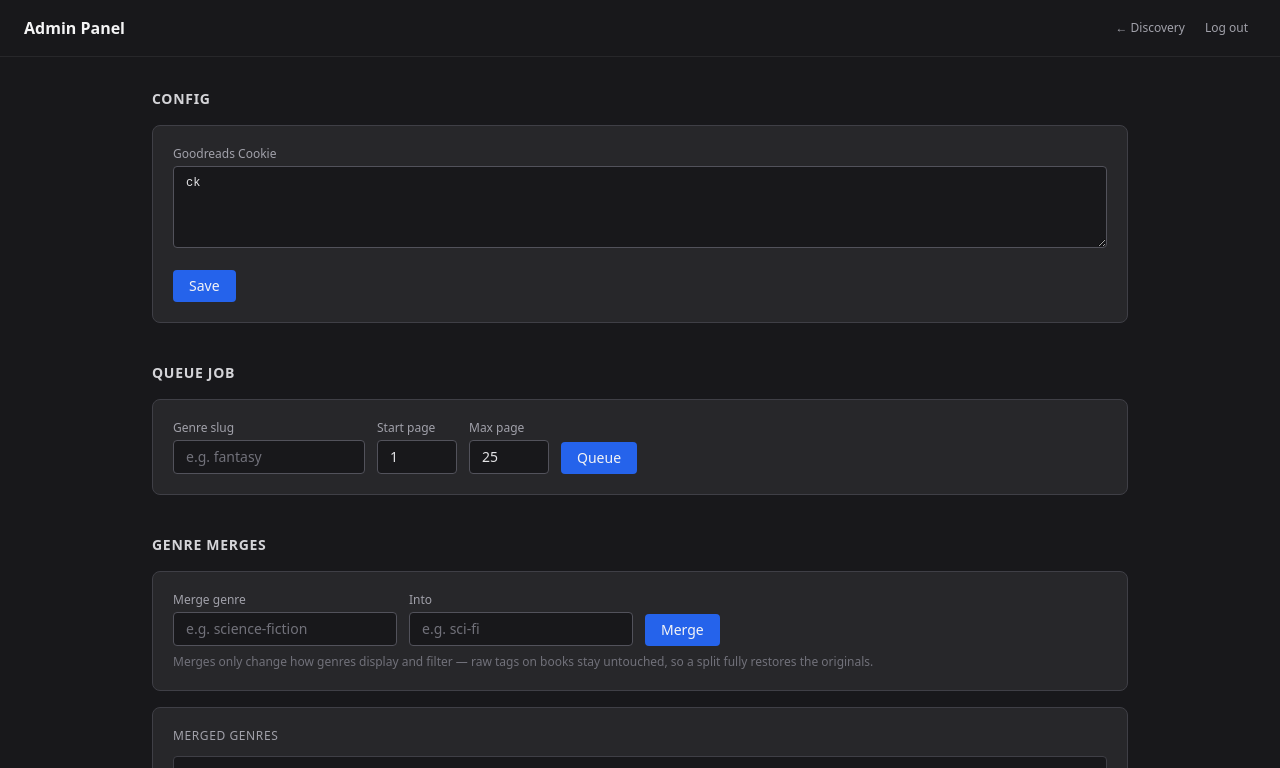
Test: Genre Merges — merge action › POSTs { from, into } and reloads the overview on success
Type "space-opera" into the field with placeholder "e.g. science-fiction" at [285, 629], box [173,612,397,646]
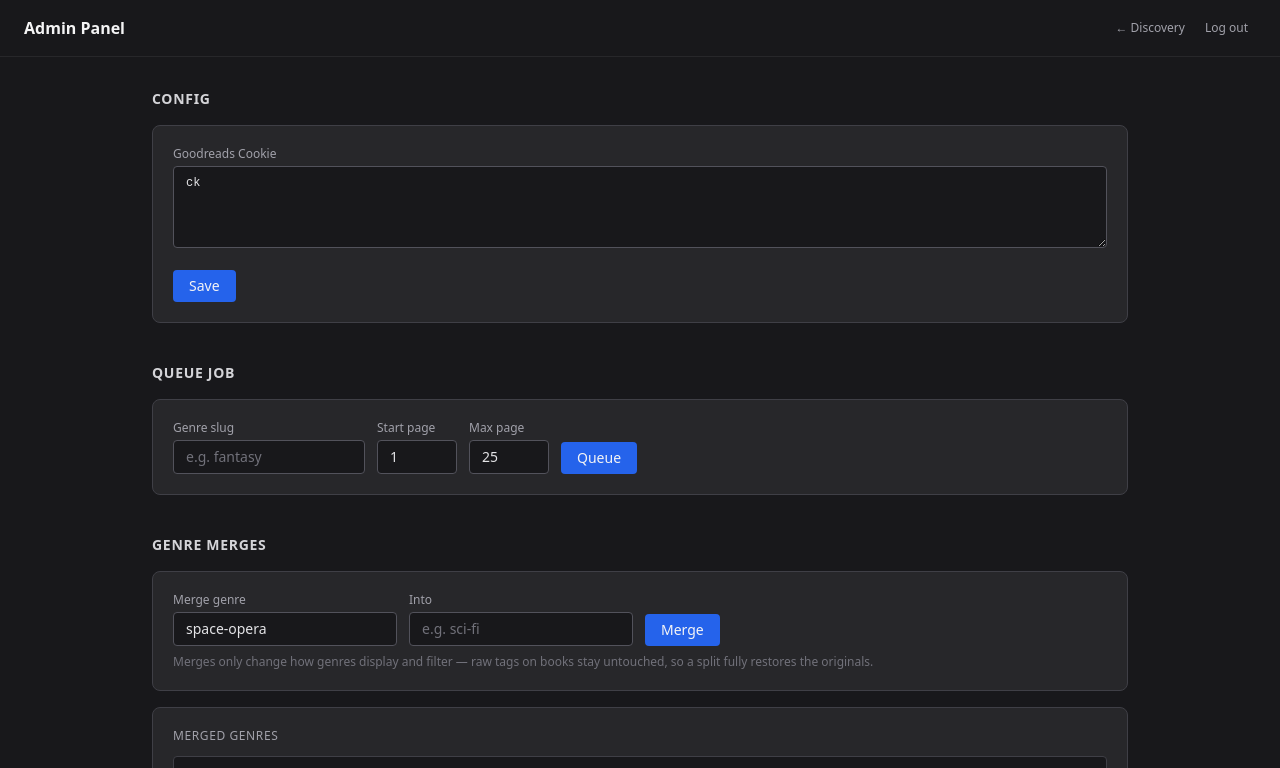
Type "sci-fi" into the field with placeholder "e.g. sci-fi" at [521, 629], box [409,612,633,646]
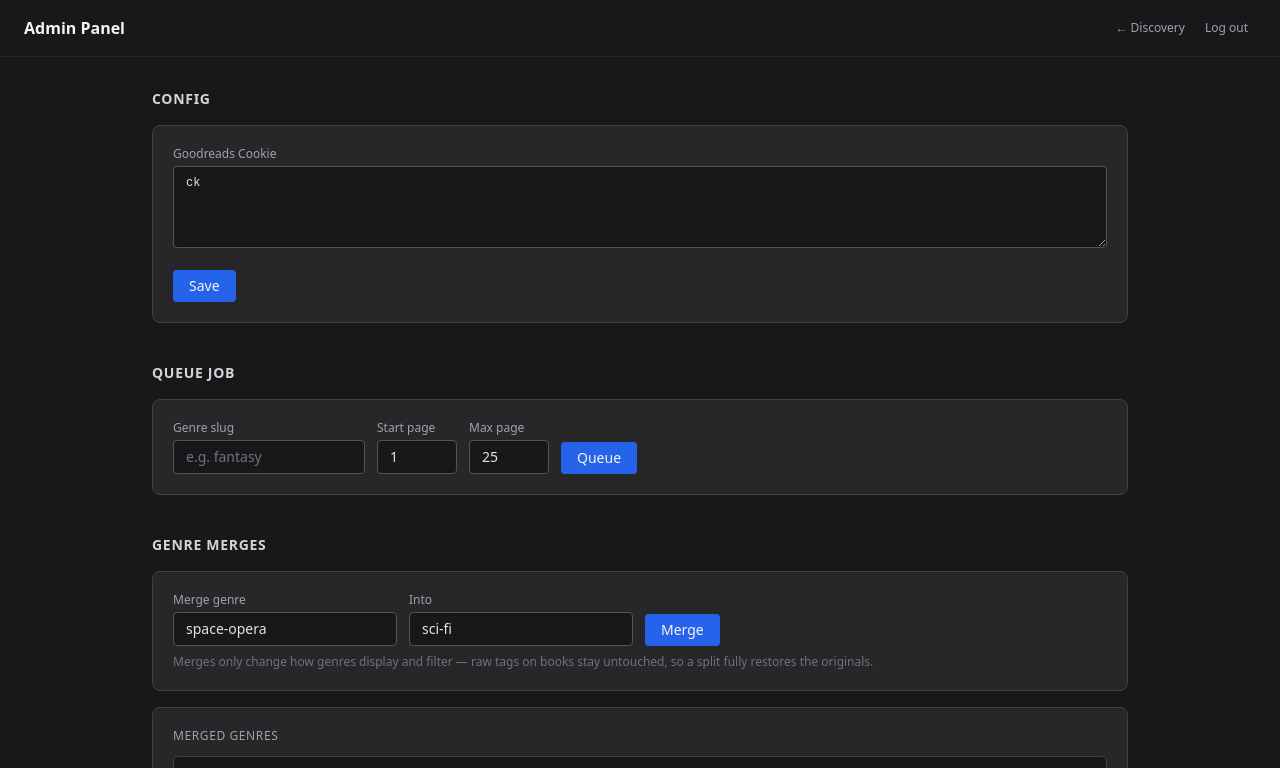
Click the button "Merge" at [682, 630], box [645,614,720,646]
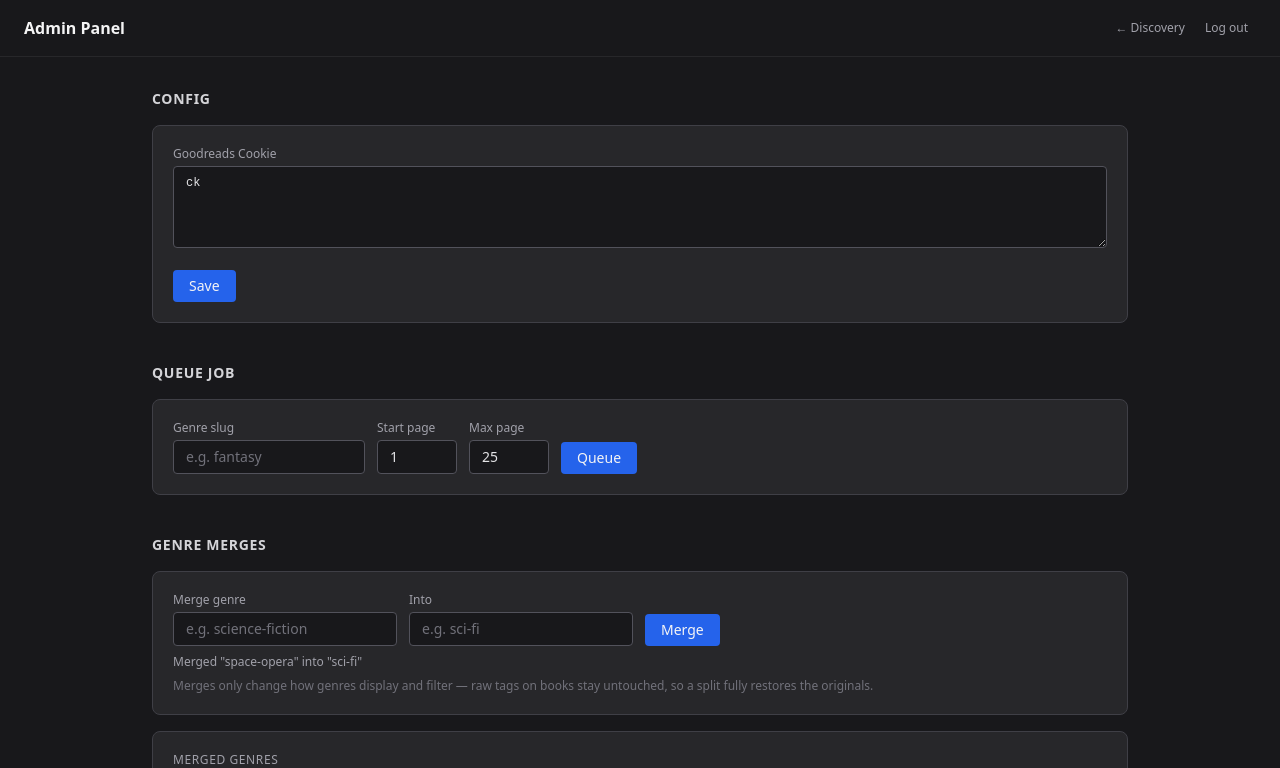
Expected: the text "Merged \"space-opera\" into \"sci-fi\"" is shown, [173,653,362,670]
